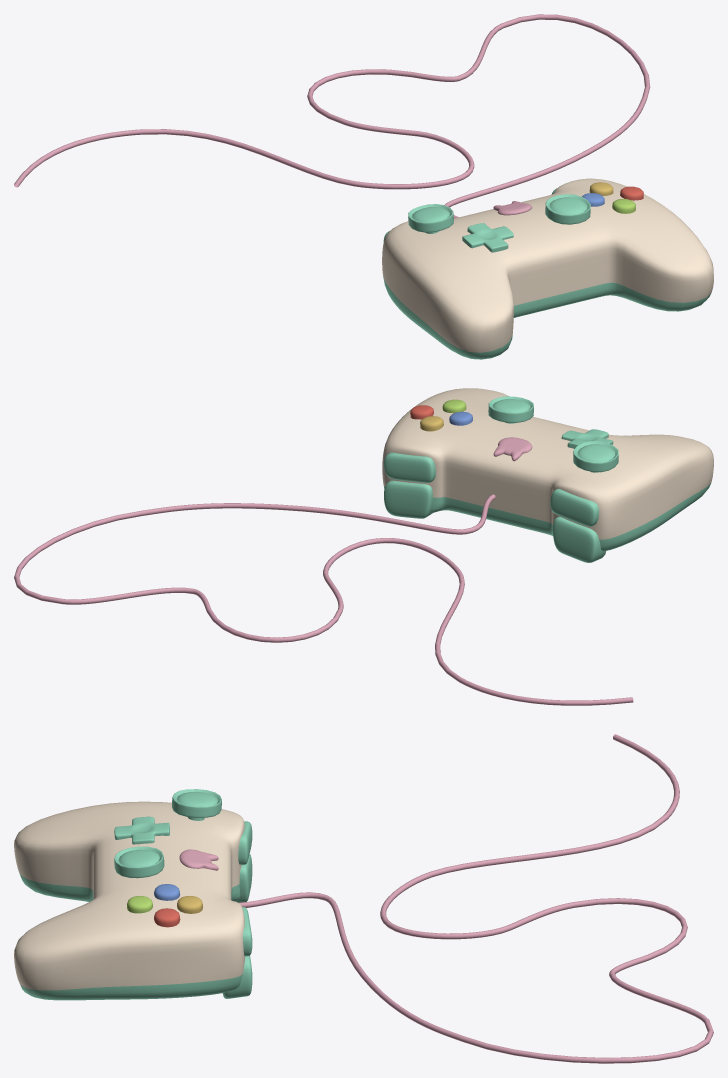
File: gamepad.glb
3 renders of one model, top to bottom at view 1: azimuth 30°, elevation 25°; view 2: azimuth 150°, elevation 25°; view 3: azimuth 270°, elevation 25°, orthographic. The views are drawn at different scales.
Parts seen in each view (by area): view 1: manette, BezierCurve, Cube.001, Cube.002, Cube; view 2: manette, BezierCurve, Cube.004, Cube.003, Cube.002, Cube.001, Cube.005, Cube; view 3: manette, BezierCurve, Cube.001, Cube.002, Cube, Cube.004, Cube.003, Cube.005.
Boxes of the visible parts, x1,y1,x2,y2 form: manette: [382, 178, 713, 359]; BezierCurve: [14, 14, 650, 218]; Cube.001: [545, 194, 590, 224]; Cube.002: [408, 204, 453, 233]; Cube: [462, 223, 513, 252]; manette: [382, 388, 713, 551]; BezierCurve: [14, 494, 633, 705]; Cube.004: [384, 480, 605, 562]; Cube.003: [384, 452, 599, 526]; Cube.002: [573, 441, 618, 472]; Cube.001: [488, 396, 533, 423]; Cube.005: [493, 437, 532, 461]; Cube: [561, 429, 613, 448]; manette: [14, 801, 244, 1000]; BezierCurve: [239, 734, 713, 1063]; Cube.001: [114, 846, 164, 878]; Cube.002: [172, 789, 221, 820]; Cube: [114, 816, 169, 844]; Cube.004: [222, 854, 252, 998]; Cube.003: [238, 821, 252, 956]; Cube.005: [179, 849, 218, 870].
Bounding box in the file's own units: 5.22 × 0.7913 × 4.74.
